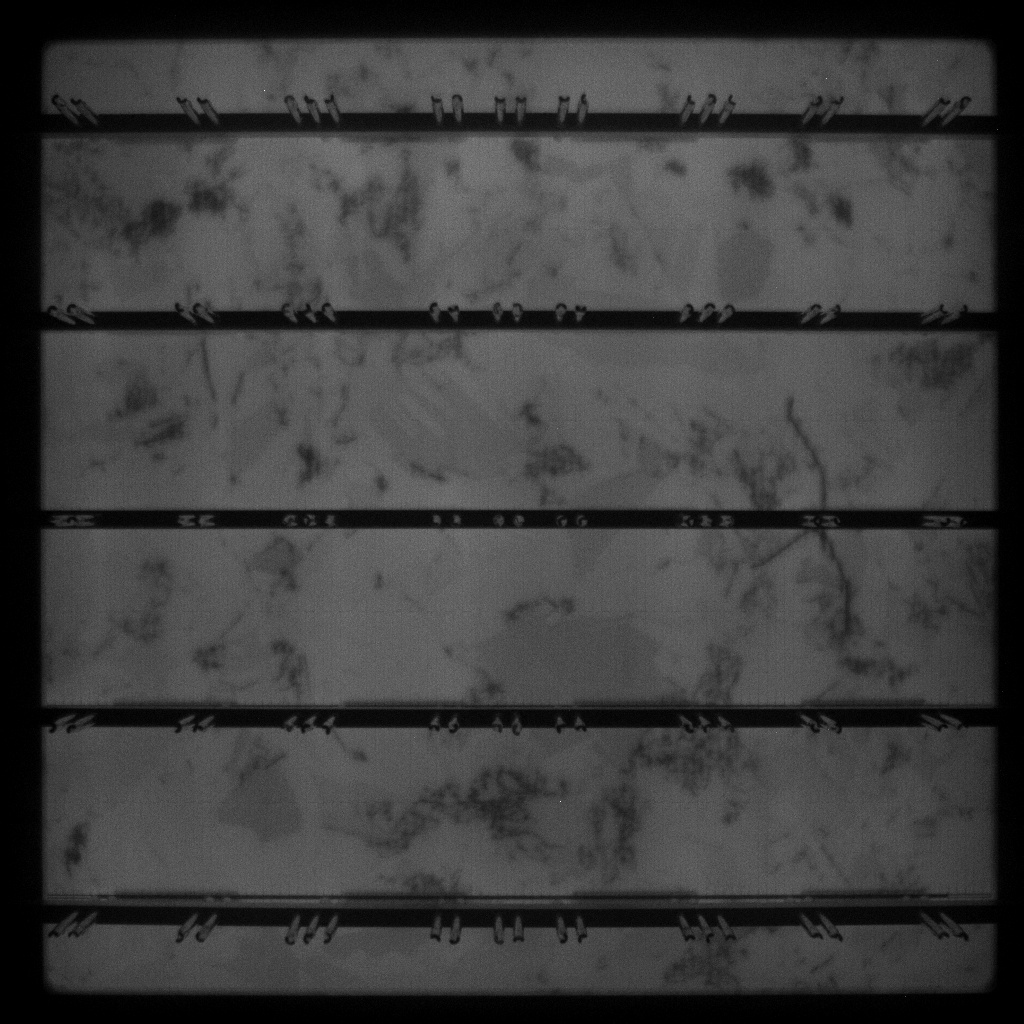crack: (751, 533, 857, 641), (780, 396, 833, 508)
